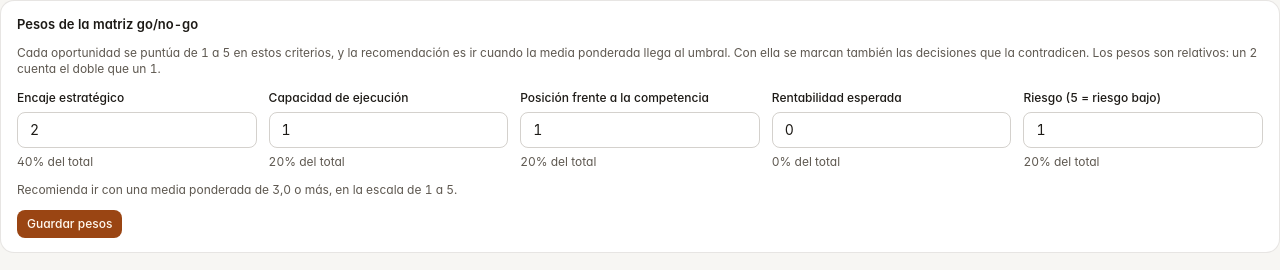
Test case: PesosGoNoGoCard › la parte del total se recalcula con lo que se escribe
The width and height of the screenshot is (1280, 270).
Replace the text in the field labelled "Encaje estratégico" with "6" at (137, 130), box [17, 112, 257, 148]
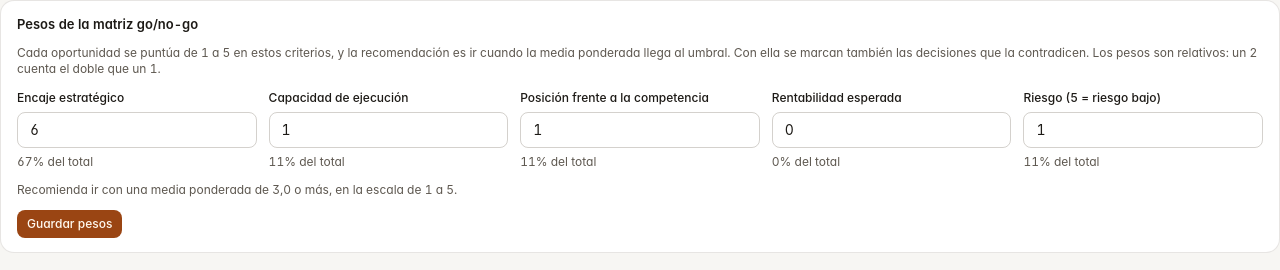
Now the text "67% del total" is shown, box [17, 154, 93, 169]
